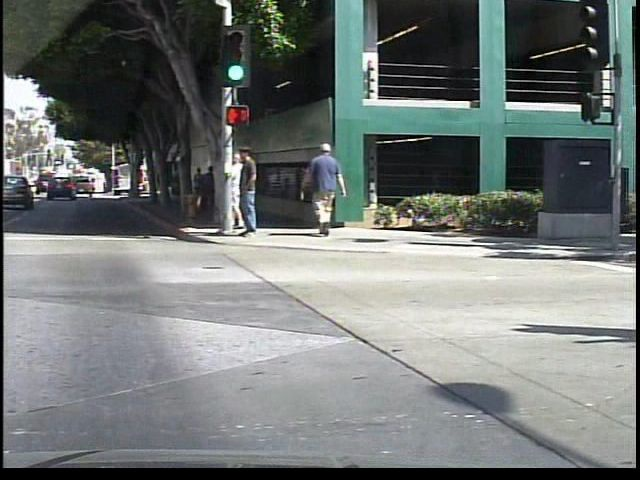person: (303, 142, 356, 240), (232, 138, 270, 244), (221, 149, 249, 233), (202, 164, 221, 222)
